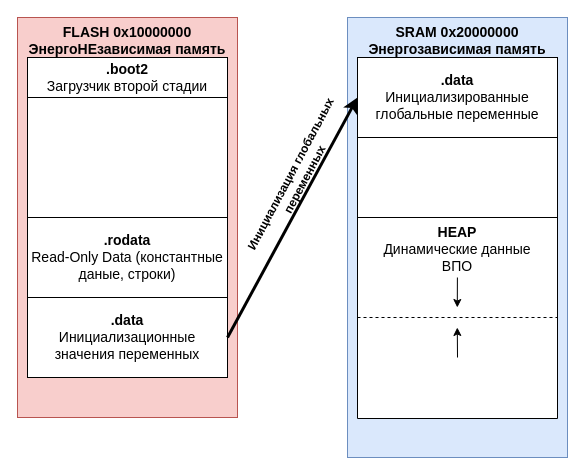
Some shapes in this 585 by 475 pixel diagram are drawn without their labels. The shapes that lost their labels are listed below. From the top down, each one's centre as x and y in pixels, then its label:
(127,157): .text Код ВПО
(457,177): .bss Неинициализированные глобальные переменные
(457,367): Данные необходимые для работы ВПО STACK
